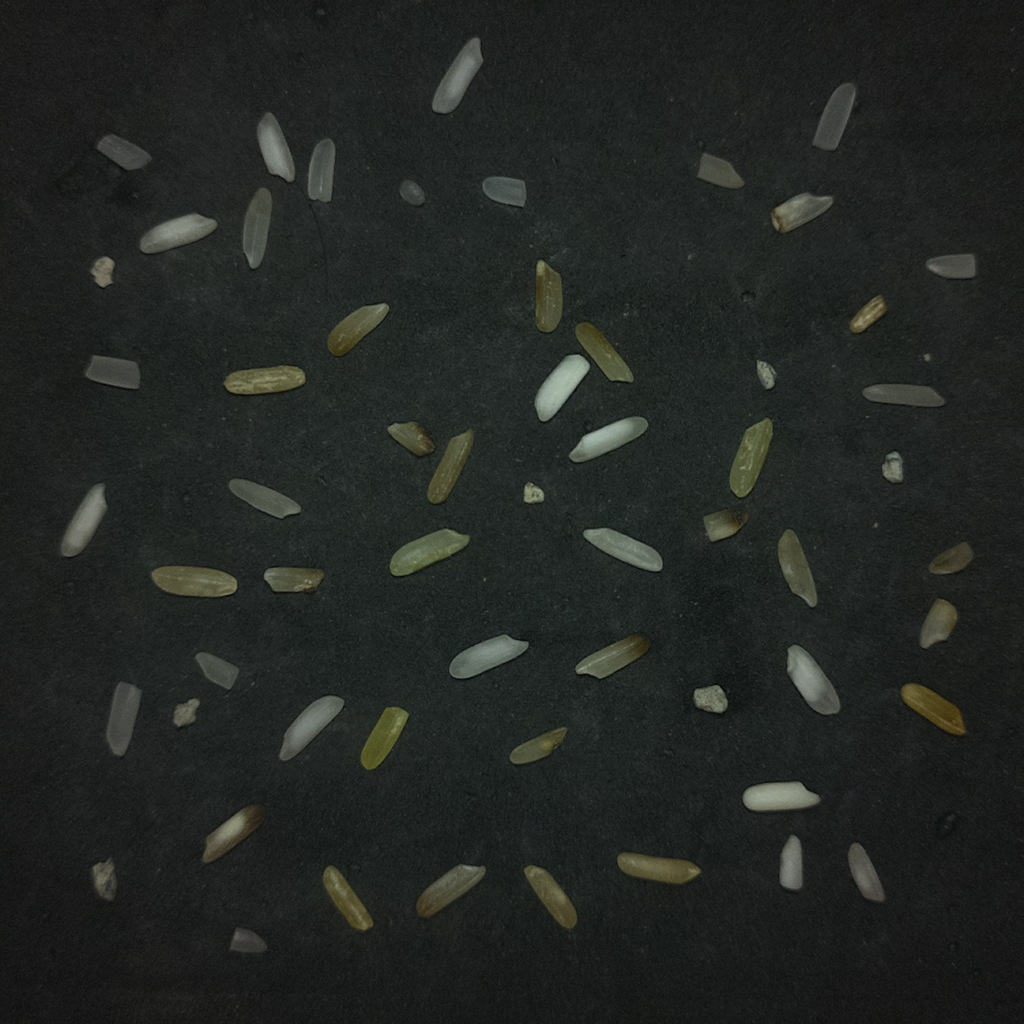broken: (777, 529, 817, 607), (848, 842, 884, 902), (96, 133, 150, 169), (84, 355, 140, 389), (696, 152, 743, 188), (195, 651, 238, 689), (482, 176, 526, 207), (926, 254, 975, 279), (229, 927, 266, 953)
chalky: (279, 695, 342, 759), (432, 37, 482, 113), (569, 416, 648, 462), (787, 645, 839, 713), (535, 356, 589, 420), (60, 484, 106, 556), (449, 634, 527, 676), (139, 213, 217, 253), (742, 781, 820, 811), (257, 113, 291, 180), (779, 834, 802, 890)
damaged: (202, 804, 265, 863), (416, 865, 485, 918), (729, 418, 772, 497), (223, 364, 305, 394), (771, 193, 832, 233), (535, 260, 562, 332), (919, 598, 957, 648), (387, 421, 434, 456), (263, 566, 324, 592), (928, 542, 974, 575), (849, 295, 887, 333)
discolored: (389, 528, 470, 577), (427, 429, 474, 504), (575, 322, 633, 381), (524, 865, 577, 929), (901, 683, 966, 735), (327, 303, 389, 356), (575, 634, 649, 678), (322, 866, 372, 931), (360, 706, 408, 769), (151, 565, 237, 597), (618, 853, 700, 884), (509, 727, 566, 764), (703, 508, 748, 541)
foreign: (92, 859, 115, 900), (693, 686, 726, 712), (90, 256, 115, 288), (174, 698, 198, 726), (400, 179, 424, 206), (756, 360, 776, 389), (883, 451, 901, 482), (523, 482, 544, 503)
whole: (584, 528, 661, 570), (228, 478, 300, 518), (812, 83, 854, 150), (243, 187, 272, 268), (107, 682, 139, 754), (862, 383, 944, 407), (307, 138, 335, 202)
